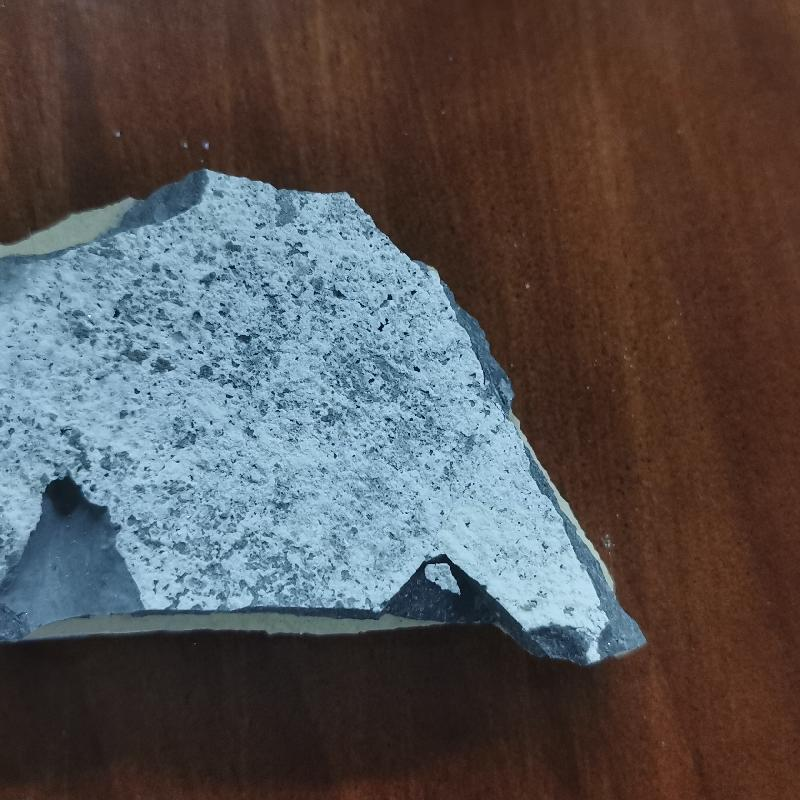tile: (4, 166, 651, 668)
